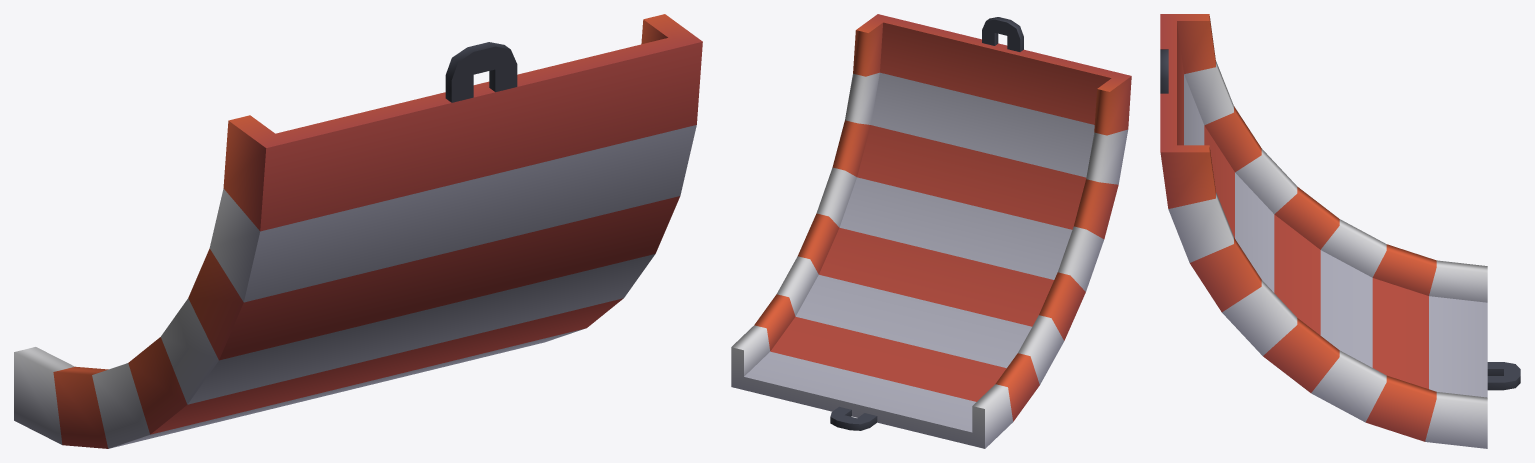
File: track-striped-wide-straight-bend.glb
The picture shows the model from 3 angles, left to right: view 1: azimuth 30°, elevation 25°; view 2: azimuth 150°, elevation 25°; view 3: azimuth 270°, elevation 25°; orthographic projection. The views are drawn at different scales.
Parts seen in each view (by area): view 1: track-striped-wide-straight-bend; view 2: track-striped-wide-straight-bend; view 3: track-striped-wide-straight-bend.
Part boxes in pixels (box(x1,y1,x2,y2)): track-striped-wide-straight-bend: box(14, 14, 702, 448); track-striped-wide-straight-bend: box(731, 14, 1131, 448); track-striped-wide-straight-bend: box(1160, 14, 1520, 448).
Bounding box in the file's own units: 2 × 2.2 × 2.2.
